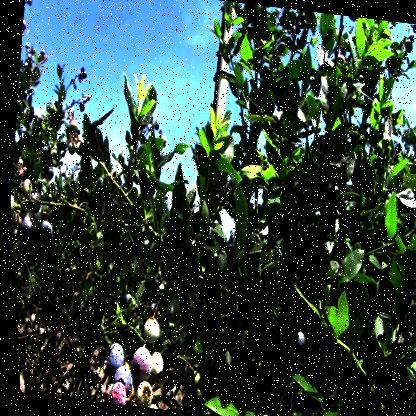intermediate: (125, 344, 152, 382), (104, 382, 125, 406), (14, 166, 26, 182)
mature: (99, 340, 125, 378), (108, 362, 134, 397), (284, 328, 305, 360), (33, 218, 54, 247), (15, 210, 34, 242)
young: (137, 312, 160, 344), (128, 382, 153, 409), (144, 351, 163, 385), (158, 298, 181, 326), (9, 206, 25, 236), (9, 188, 20, 220), (19, 180, 34, 199), (66, 118, 78, 136), (66, 141, 76, 156), (143, 402, 159, 410)
